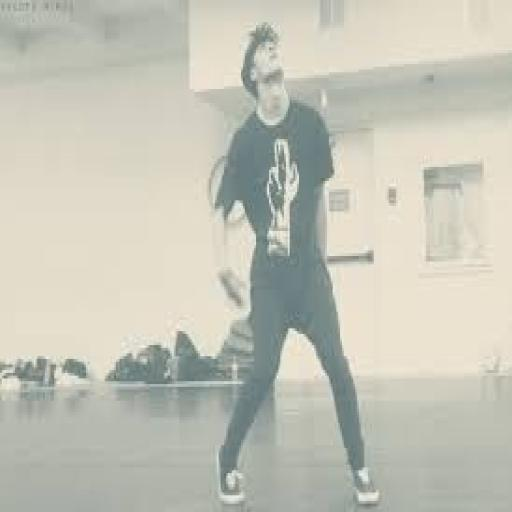dancing: (207, 20, 383, 509)
